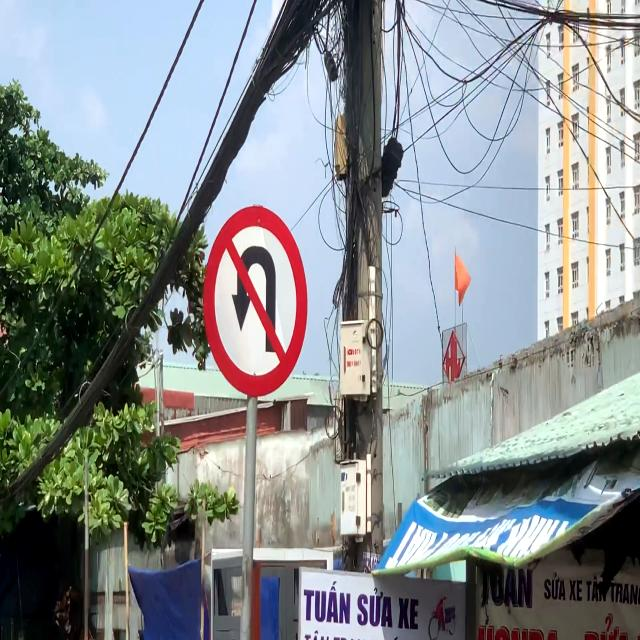P.124a: (203, 205, 308, 397)
